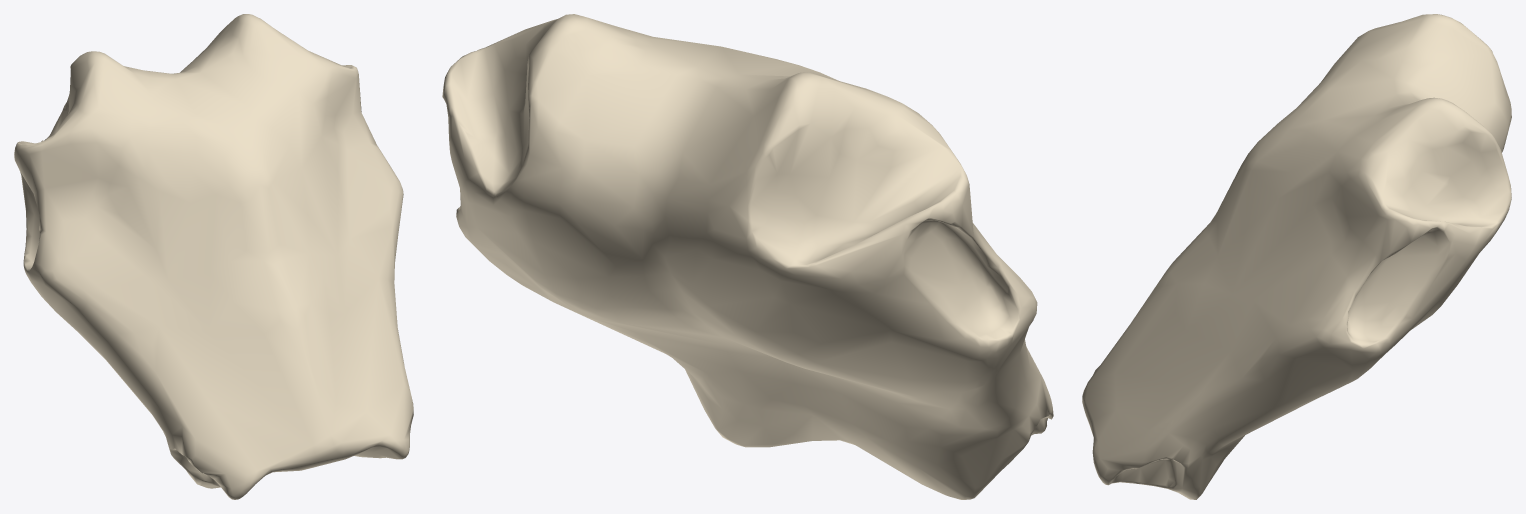
File: manubrium-of-sternum.glb
The picture shows the model from 3 angles, left to right: view 1: azimuth 30°, elevation 25°; view 2: azimuth 150°, elevation 25°; view 3: azimuth 270°, elevation 25°; orthographic projection. The views are drawn at different scales.
Visible parts, largest first — view 1: Manubrium of sternum; view 2: Manubrium of sternum; view 3: Manubrium of sternum.
Part boxes in pixels (left/top/right/bottom): Manubrium of sternum: left=14, top=14, right=413, bottom=499; Manubrium of sternum: left=442, top=14, right=1053, bottom=499; Manubrium of sternum: left=1082, top=14, right=1511, bottom=499.
Bounding box in the file's own units: 0.0571 × 0.054 × 0.0522.
